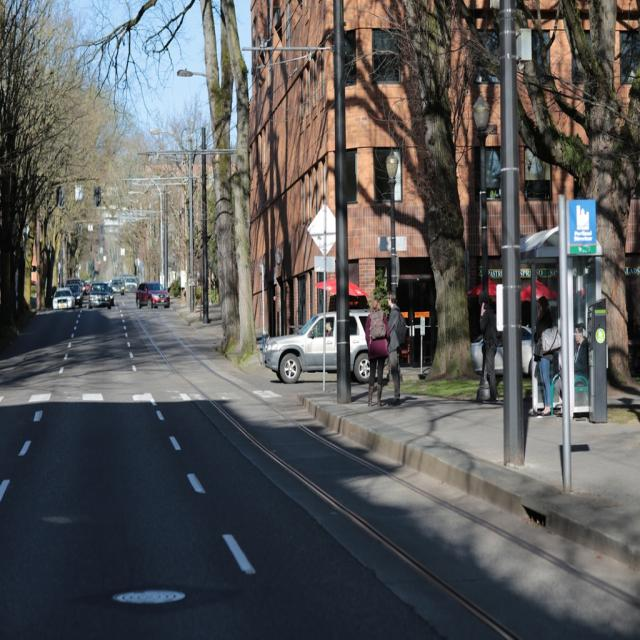car: (137, 279, 170, 312), (87, 281, 114, 308), (51, 283, 75, 308)
